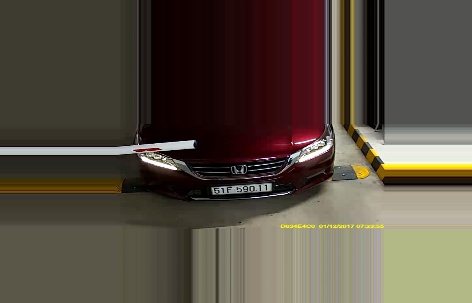plate: (209, 181, 274, 194)
